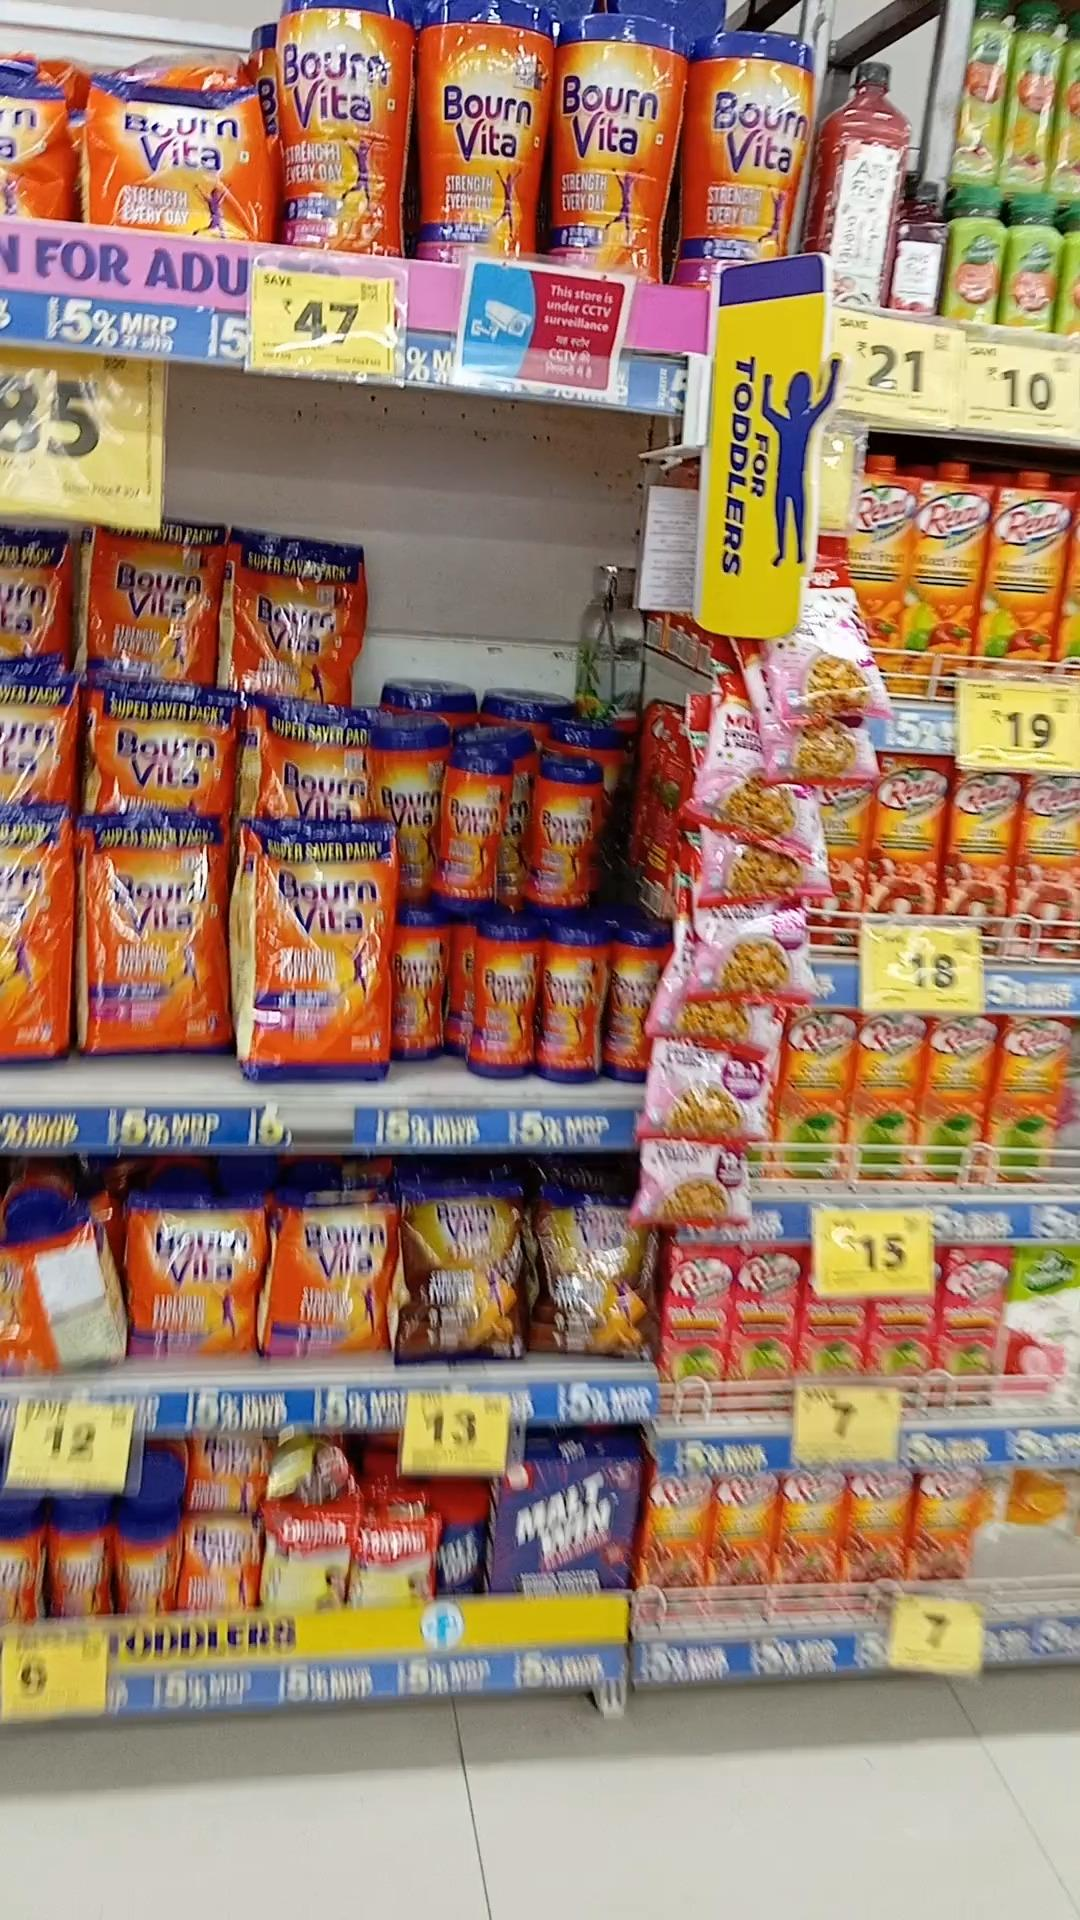BOURN_VITA_1_KG_JAR: (414, 0, 546, 268), (277, 0, 407, 256), (553, 13, 675, 284), (679, 21, 806, 272)
BOURN_VITA_1_KG_POUCH: (240, 818, 398, 1081), (78, 807, 225, 1059)
BOURN_VITA_500_G_JAR: (522, 750, 605, 915), (538, 920, 611, 1079), (435, 744, 505, 903), (468, 911, 534, 1077), (402, 906, 451, 1060)
BOURN_VITA_500_G_POUCH: (80, 75, 274, 239), (121, 1197, 253, 1354), (264, 1197, 392, 1354)
BOURN_VITA_FIVE_STAR_MAGIC_500_G_POUCH: (396, 1178, 530, 1361), (535, 1178, 655, 1361)
